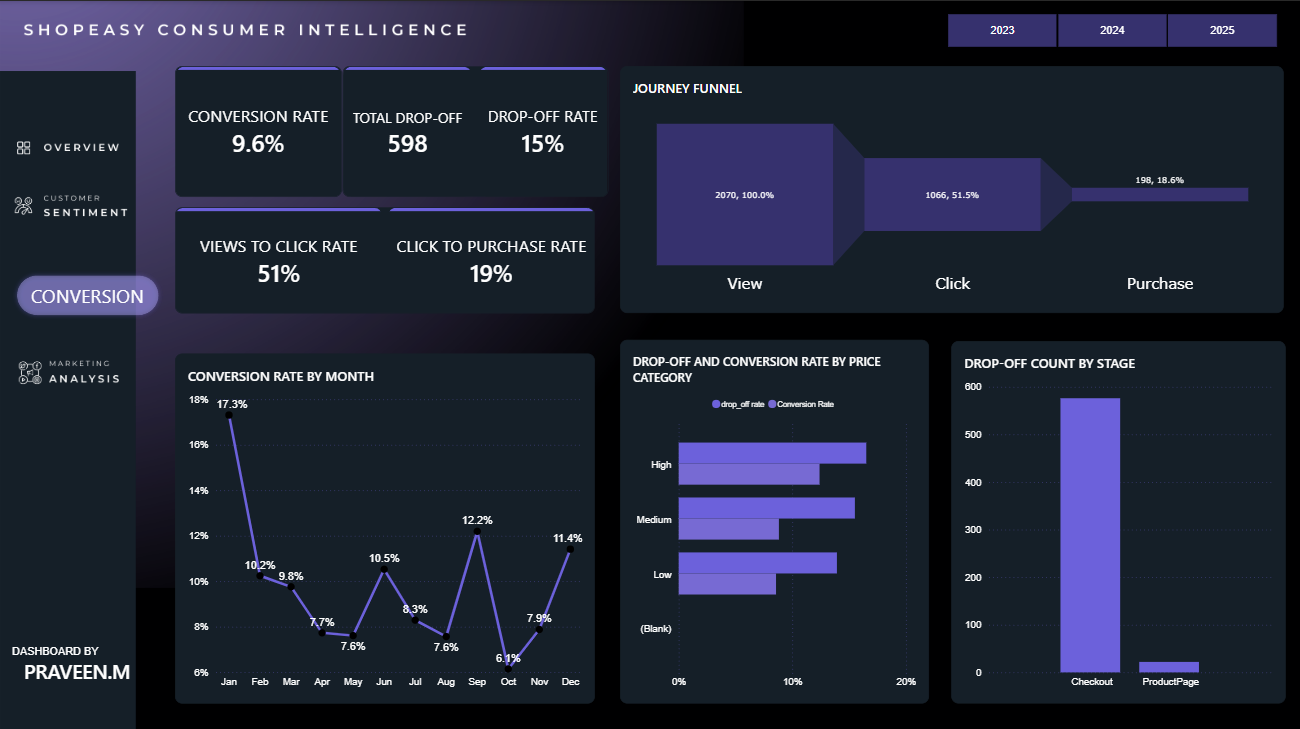

The page's visual inventory and layout, read from the dashboard file:
{"tool":"powerbi","page":{"name":"Conversion Analysis","canvas":[1600,900],"ordinal":2},"visuals":[{"type":"cardVisual","fields":{"Data":["calculations.Conversion Rate"]},"box":[214.8,80.3,204.9,160.7],"z":0},{"type":"cardVisual","fields":{"Data":["calculations.Total Dropoffs","calculations.drop_off rate"]},"box":[420.2,79.8,326.7,161],"z":1000},{"type":"columnChart","title":"DROP-OFF COUNT BY STAGE","fields":{"Category":["customer_journey_cleaned.Stage"],"Y":["CountNonNull(customer_journey_cleaned.JourneyID)"]},"box":[1166.7,416.7,410,445],"z":2000},{"type":"clusteredBarChart","title":"DROP-OFF AND CONVERSION RATE BY PRICE CATEGORY","fields":{"Category":["products.Price Category"],"Y":["calculations.drop_off rate","calculations.Conversion Rate"]},"box":[760.7,415.6,378.8,446.3],"z":3000},{"type":"cardVisual","fields":{"Data":["calculations.View to Click Rate","calculations.Click to Purchase Rate"]},"box":[214.7,253.1,515.3,130.4],"z":4000},{"type":"stackedhorizontalfunnelEC4E2CF18990EF8267C380787C9A6BC9","title":"JOURNEY FUNNEL","fields":{"col_0":["customer_journey_cleaned.Action"],"col_1":["CountNonNull(customer_journey_cleaned.JourneyID)"]},"box":[760.7,80.3,814.8,303.3],"z":5000},{"type":"lineChart","title":"CONVERSION RATE BY MONTH","fields":{"Category":["Calendar.MonthNameShort"],"Y":["calculations.Conversion Rate"]},"box":[214.7,432.5,515.3,429.5],"z":6000},{"type":"slicer","fields":{"Values":["Calendar.Date.Variation.Date Hierarchy.Year"]},"box":[1142.6,13.1,442.6,44.3],"z":7000},{"type":"shape","box":[11.7,305,150,111.7],"z":8000},{"type":"shape","box":[0,316.7,215,90],"z":9000},{"type":"pageNavigator","box":[0,131.7,183.3,100],"z":10000},{"type":"pageNavigator","box":[0,205,183.3,100],"z":11000},{"type":"pageNavigator","box":[0,400,183.3,100],"z":12000},{"type":"textbox","box":[0,789.9,182.5,72.1],"z":13000}]}

Visuals, with their boxes in screenshot pixels (x1, y1, x2, y2), scaled from the page's 1600x900 canvas onto the 1300x729 screenshot:
cardVisual - calculations.Conversion Rate: {"x1": 175, "y1": 65, "x2": 341, "y2": 195}
cardVisual - calculations.Total Dropoffs x calculations.drop_off rate: {"x1": 341, "y1": 65, "x2": 607, "y2": 195}
"DROP-OFF COUNT BY STAGE" columnChart: {"x1": 948, "y1": 338, "x2": 1281, "y2": 698}
"DROP-OFF AND CONVERSION RATE BY PRICE CATEGORY" clusteredBarChart: {"x1": 618, "y1": 337, "x2": 926, "y2": 698}
cardVisual - calculations.View to Click Rate x calculations.Click to Purchase Rate: {"x1": 174, "y1": 205, "x2": 593, "y2": 311}
"JOURNEY FUNNEL" stackedhorizontalfunnelEC4E2CF18990EF8267C380787C9A6BC9: {"x1": 618, "y1": 65, "x2": 1280, "y2": 311}
"CONVERSION RATE BY MONTH" lineChart: {"x1": 174, "y1": 350, "x2": 593, "y2": 698}
slicer - Calendar.Date.Variation.Date Hierarchy.Year: {"x1": 928, "y1": 11, "x2": 1288, "y2": 46}
shape: {"x1": 10, "y1": 247, "x2": 131, "y2": 338}
shape: {"x1": 0, "y1": 257, "x2": 175, "y2": 329}
pageNavigator: {"x1": 0, "y1": 107, "x2": 149, "y2": 188}
pageNavigator: {"x1": 0, "y1": 166, "x2": 149, "y2": 247}
pageNavigator: {"x1": 0, "y1": 324, "x2": 149, "y2": 405}
textbox: {"x1": 0, "y1": 640, "x2": 148, "y2": 698}
